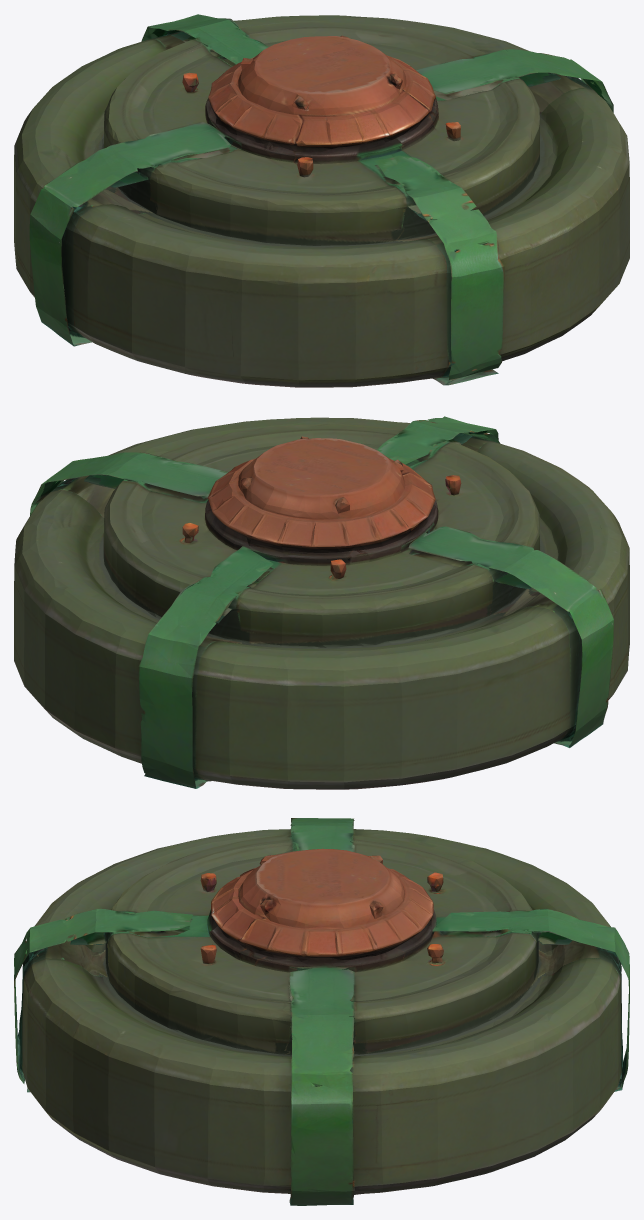
Rendered from Landmine.fbx.
The picture shows the model from 3 angles, top to bottom: view 1: azimuth 30°, elevation 25°; view 2: azimuth 150°, elevation 25°; view 3: azimuth 270°, elevation 25°; orthographic projection.
Parts seen in each view (by area): view 1: temp; view 2: temp; view 3: temp.
Boxes of the visible parts, x1,y1,x2,y2 form: temp: (14,14,629,387); temp: (14,416,629,789); temp: (14,818,629,1205).
Size of the model in its own units: 200 by 74.25 by 195.
Materials: 1 (1 with a texture image).
